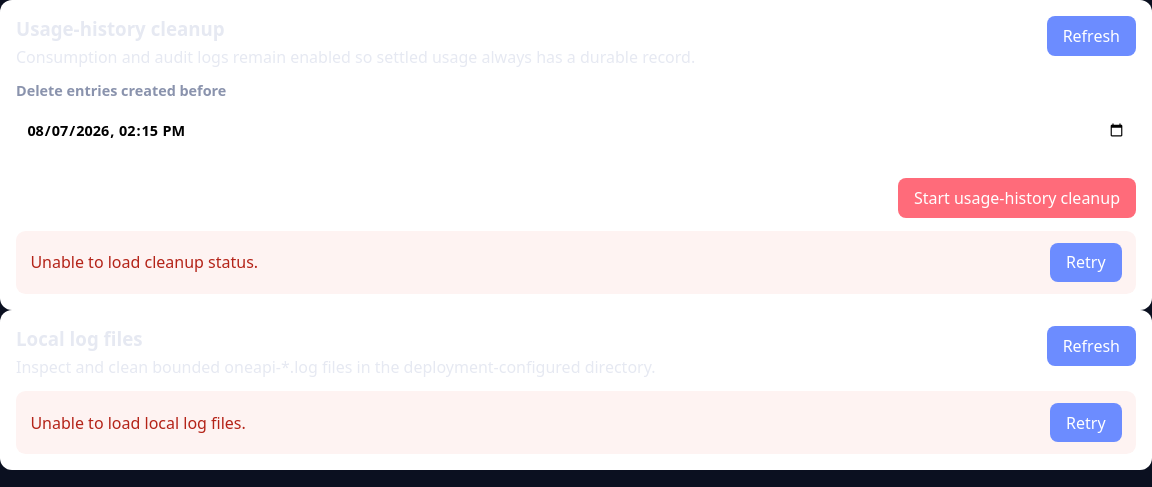
Scenario: LogMaintenancePanel › fails locally for invalid cleanup values and exposes retryable read failures
The width and height of the screenshot is (1152, 487).
Expected: the text "Unable to load local log files." is shown, x1=30 y1=412 x2=246 y2=434
Expected: the text "Unable to load cleanup status." is shown, x1=30 y1=252 x2=258 y2=274
Click the button "Retry" in the row of "Unable to load cleanup status.". click: {"x": 1086, "y": 262}
box: x1=1050 y1=243 x2=1122 y2=282
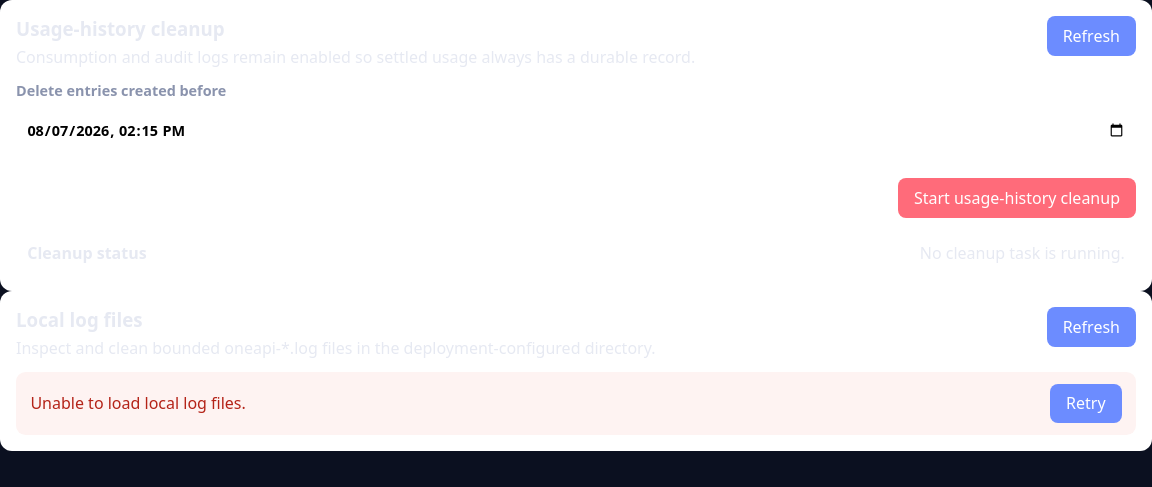
Expected: the text "No cleanup task is running." is shown, x1=920 y1=242 x2=1125 y2=264
